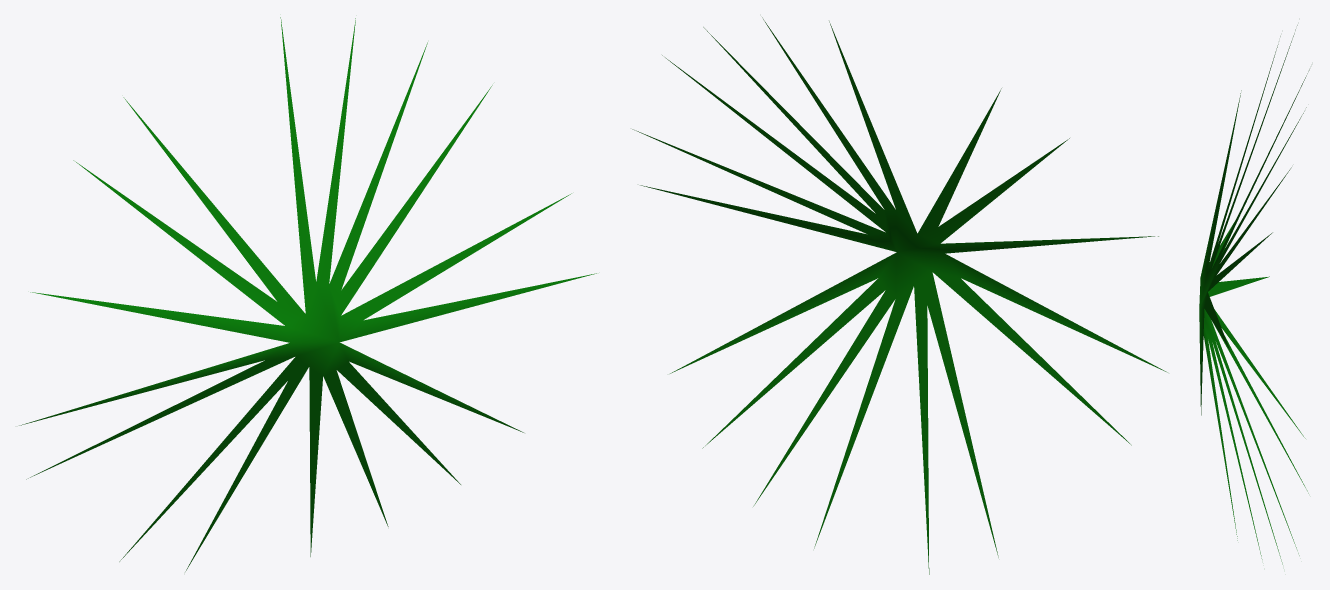
File: newleaf.dae
The picture shows the model from 3 angles, left to right: view 1: azimuth 30°, elevation 25°; view 2: azimuth 150°, elevation 25°; view 3: azimuth 270°, elevation 25°; orthographic projection. The views are drawn at different scales.
Visible parts, largest first — view 1: mesh0%root%0%; view 2: mesh0%root%0%; view 3: mesh0%root%0%.
Part boxes in pixels (x1=…): mesh0%root%0%: x1=19, y1=17, x2=596, y2=571; mesh0%root%0%: x1=632, y1=17, x2=1167, y2=574; mesh0%root%0%: x1=1199, y1=25, x2=1309, y2=564.
Bounding box in the file's own units: 19.02 × 17.68 × 3.76.
